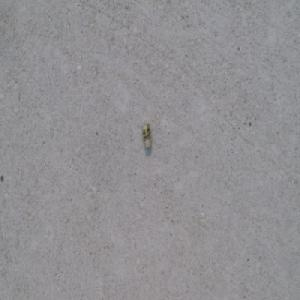BoltNutSet: (141, 122, 152, 149)
